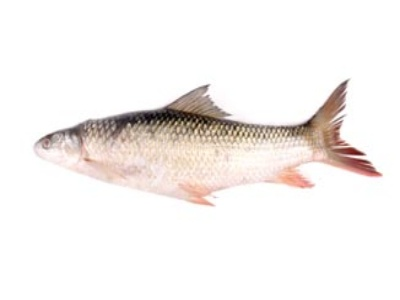rohu: (33, 79, 387, 210)
